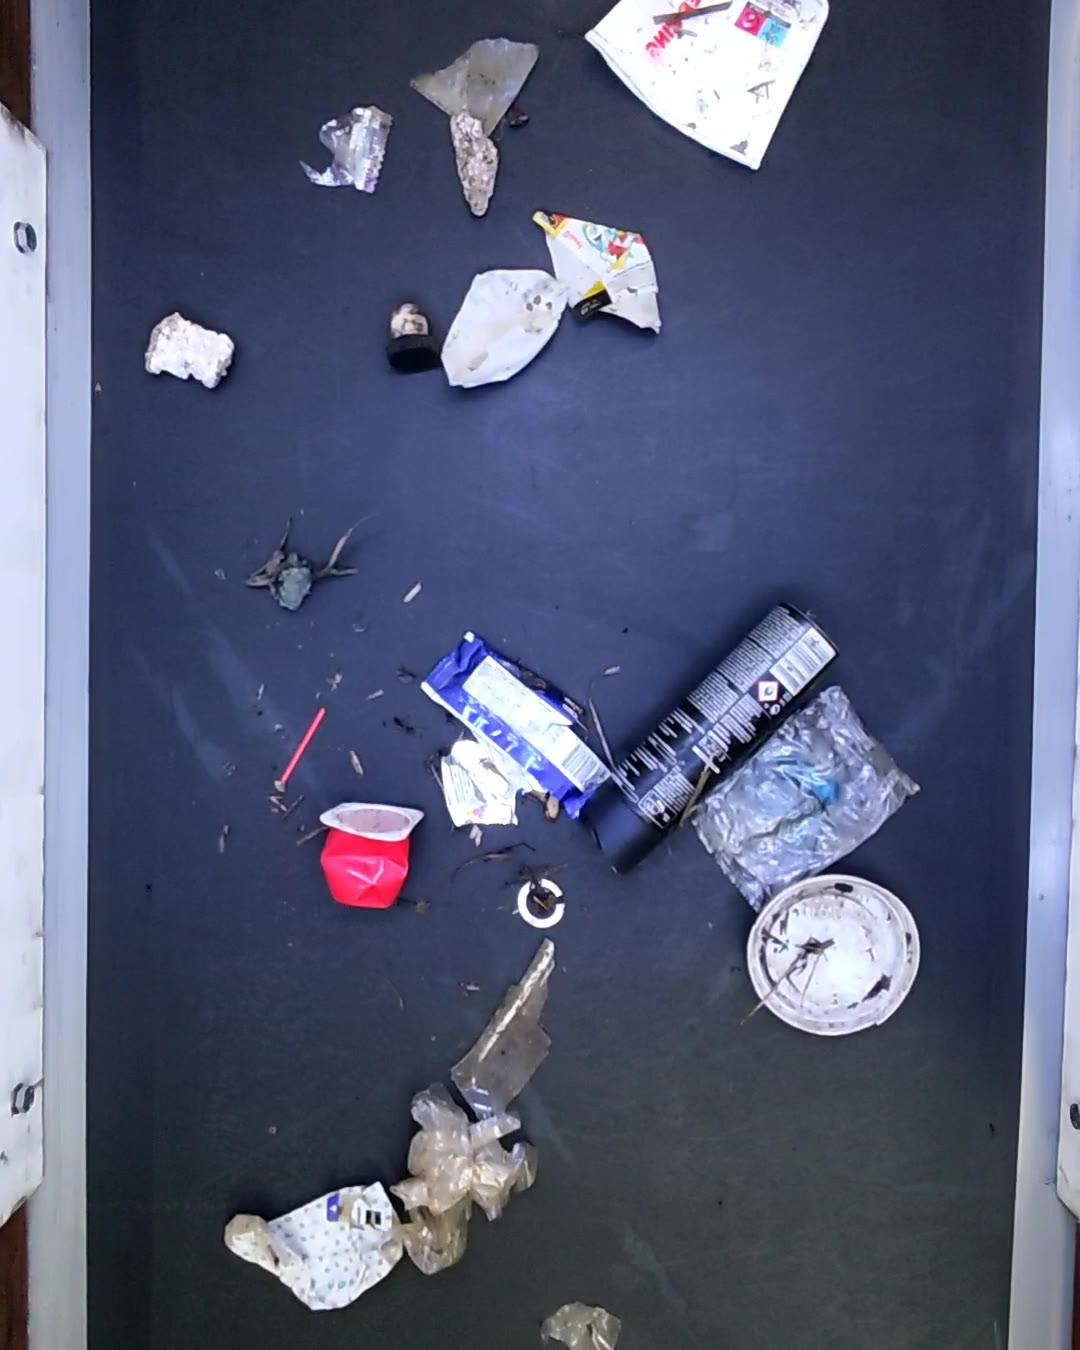Plastic folies of stukken daarvan 2.5- 50 cm: (692, 685, 920, 912), (396, 1086, 536, 1277), (456, 935, 557, 1121), (438, 270, 562, 387), (408, 34, 539, 139), (298, 102, 389, 194), (540, 1299, 618, 1350)
Snoep snack en chips verpakkingen: (420, 628, 611, 820), (532, 212, 663, 332)
Voedselverpakkingen: (322, 801, 421, 908)
